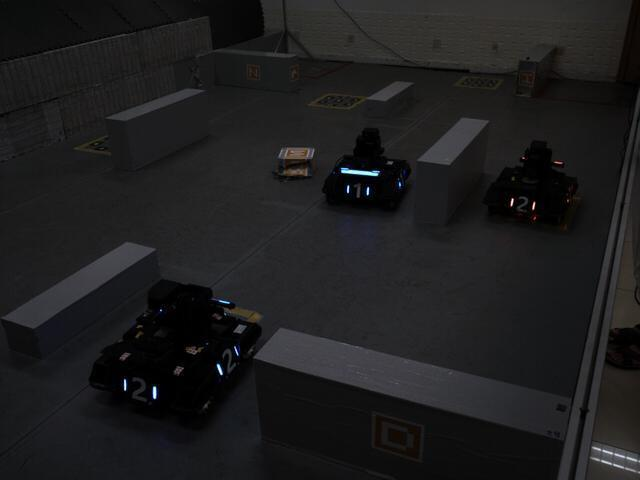armor: (118, 368, 162, 411), (210, 342, 244, 383), (504, 190, 540, 222), (341, 180, 373, 202)
